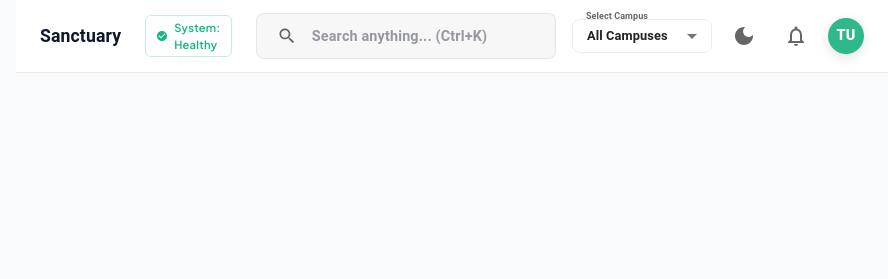
Test: TopAppBar Upgrades › renders campus switcher dropdown and handles change
The image size is (888, 279).
// Click to open selection
Press the mouse on the dropdown named "Select Campus" at (627, 35), box [587,28,668,43]
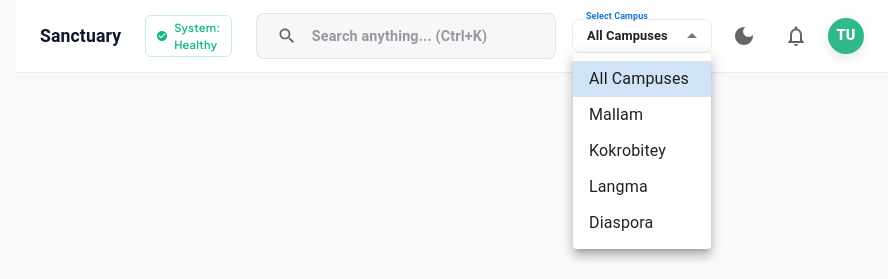
expect the option "Kokrobitey" is shown: met, box [589,141,666,160]
expect the option "Mallam" is shown: met, box [589,105,643,124]
expect the option "Langma" is shown: met, box [589,177,648,196]
